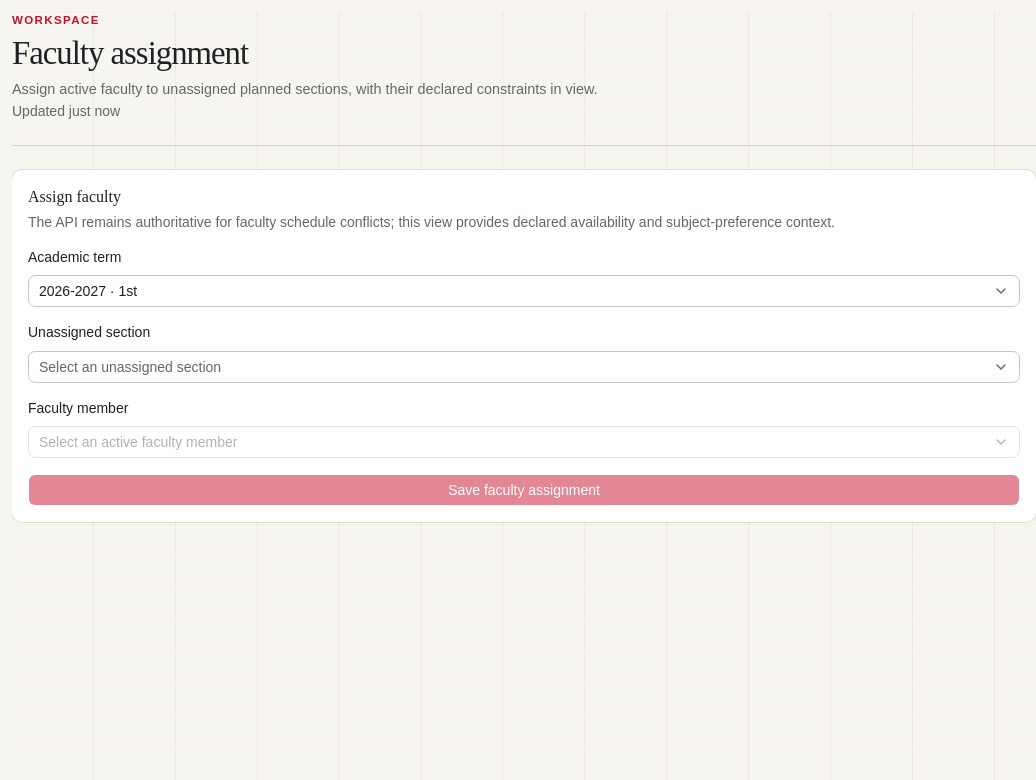
it: FacultyAssignmentWorkspace › shows the server conflict when the assignment double-books faculty
Click the dropdown labelled "unassigned section" at (130, 367), box [28, 351, 1020, 383]
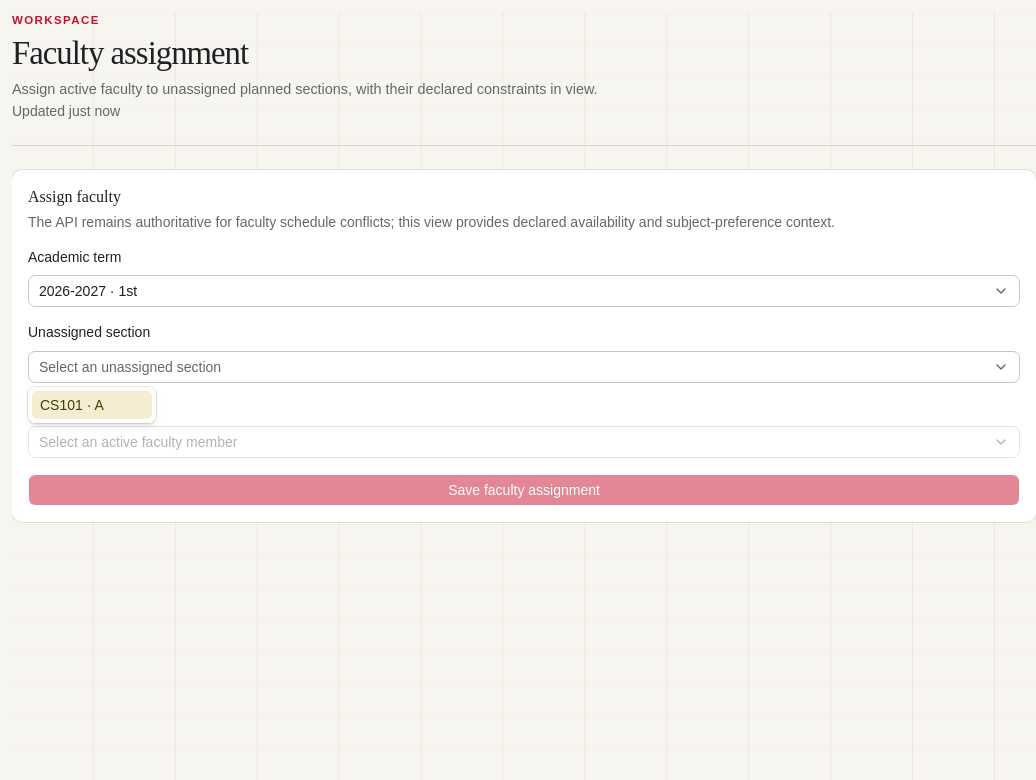
Click the option "CS101 · A" at (92, 405), box [32, 391, 152, 419]
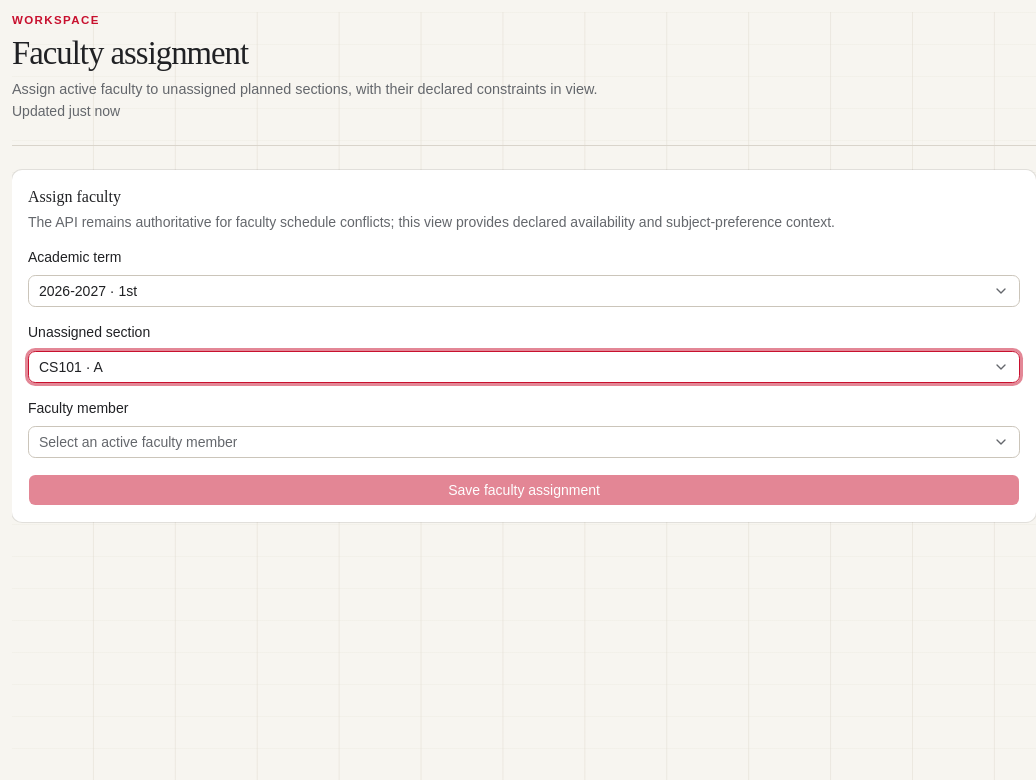
Click the dropdown labelled "faculty member" at (138, 442), box [28, 426, 1020, 458]
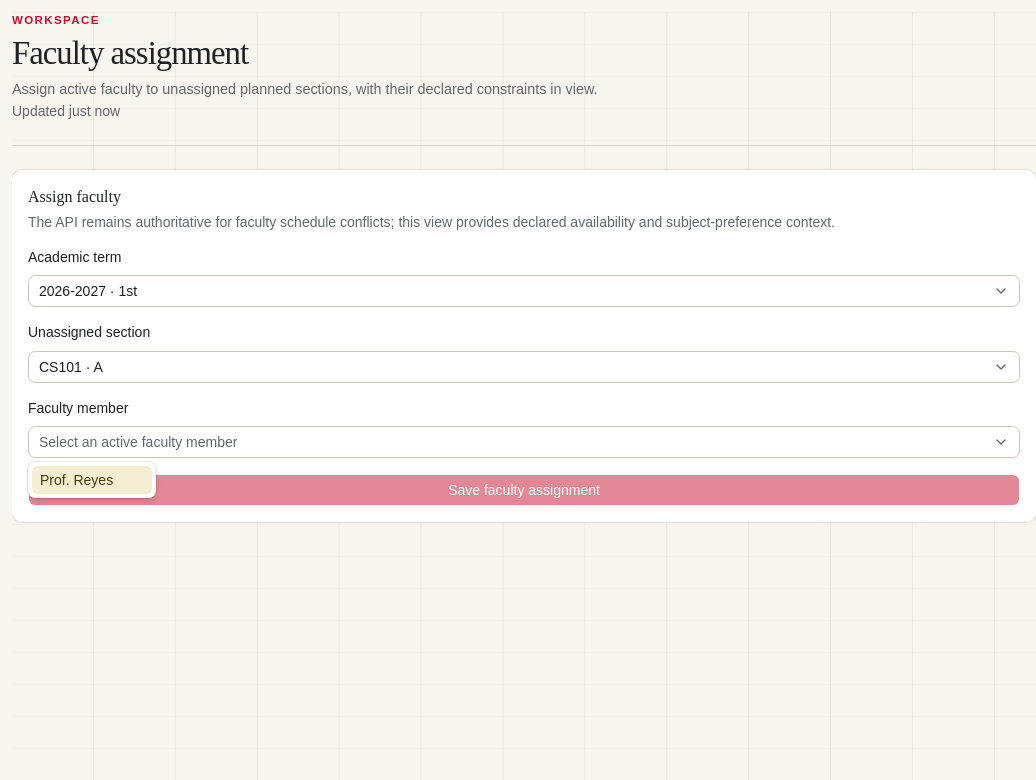
Click the option "Prof. Reyes" at (92, 480), box [32, 466, 152, 494]
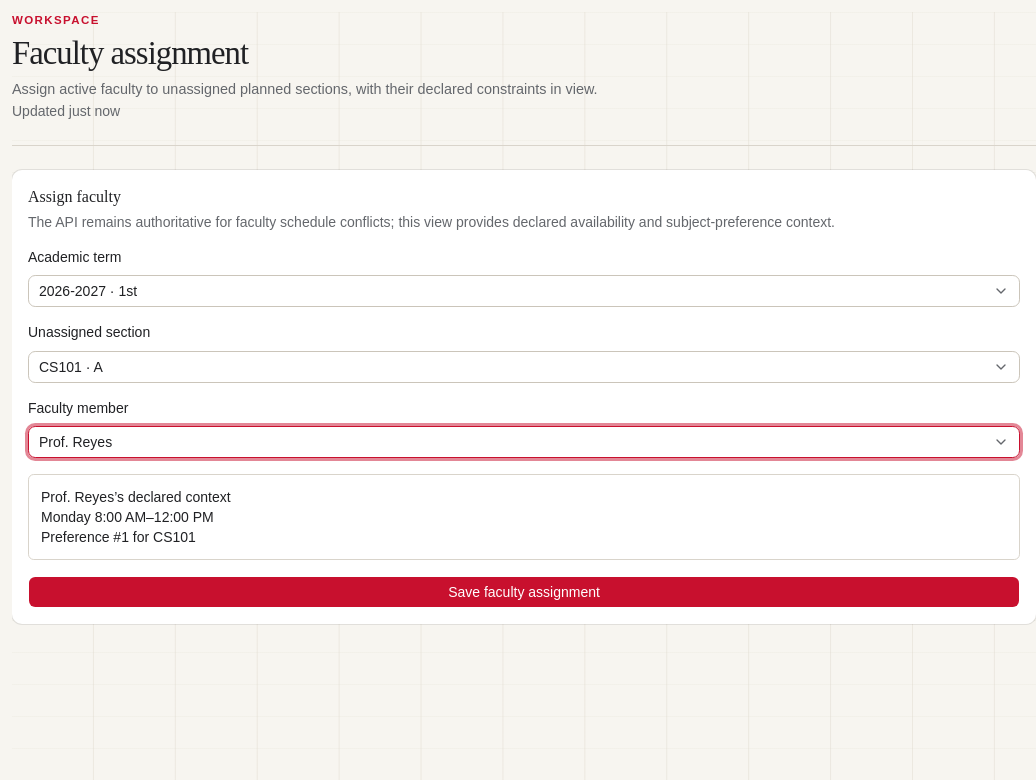
Click the button "Save faculty assignment" at (524, 592), box [28, 576, 1020, 608]
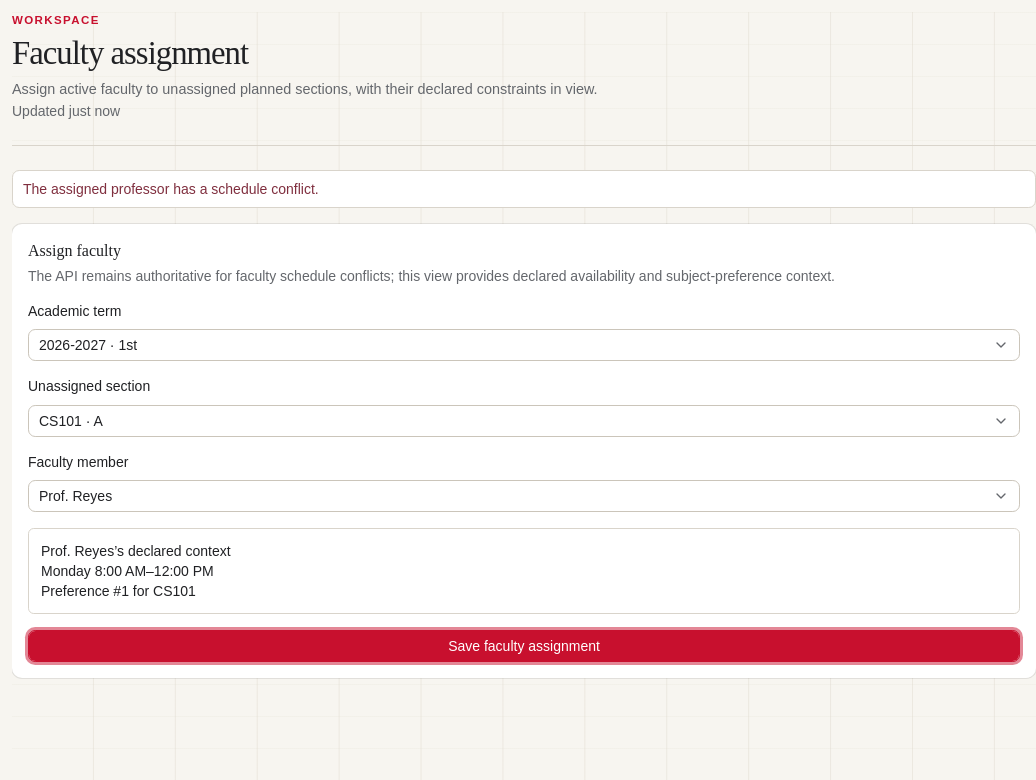
expect the text "The assigned professor has a schedule conflict." is shown: met, box [23, 181, 319, 197]
